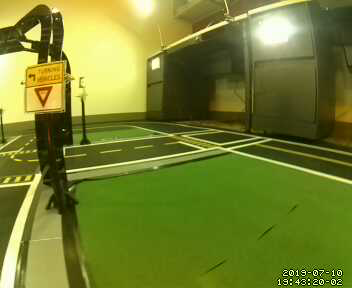Turn Yield: (25, 64, 66, 112)
